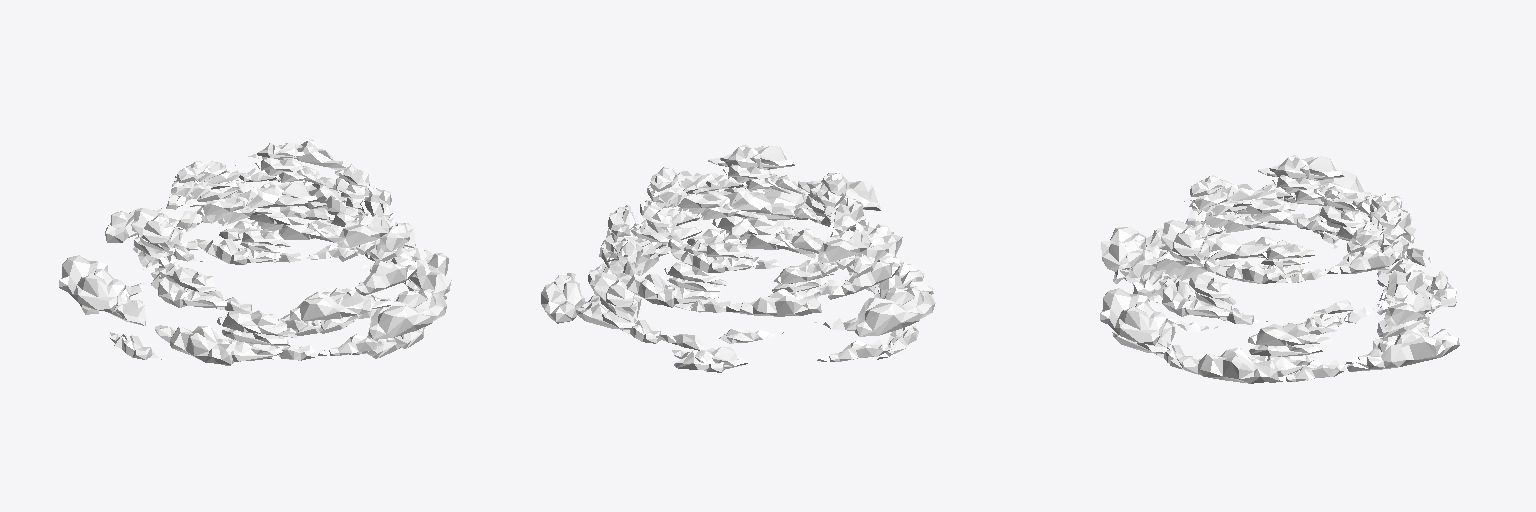
File: Clouds.obj
3 renders of one model, left to right at view 1: azimuth 30°, elevation 25°; view 2: azimuth 150°, elevation 25°; view 3: azimuth 270°, elevation 25°, orthographic.
Visible parts, largest first — view 1: SM_Env_Cloud_Ring_01_Clouds_Mat_0; view 2: SM_Env_Cloud_Ring_01_Clouds_Mat_0; view 3: SM_Env_Cloud_Ring_01_Clouds_Mat_0.
Boxes of the visible parts, box(x1,y1,x2,y2) form: SM_Env_Cloud_Ring_01_Clouds_Mat_0: box(59, 139, 451, 365); SM_Env_Cloud_Ring_01_Clouds_Mat_0: box(541, 144, 935, 372); SM_Env_Cloud_Ring_01_Clouds_Mat_0: box(1100, 155, 1459, 383).
Bounding box in the file's own units: 531 × 183 × 474.